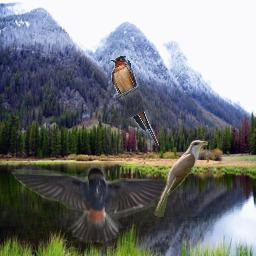Cuckoo: (153, 140, 208, 217)
Swallow: (7, 164, 171, 243), (111, 55, 159, 146)
